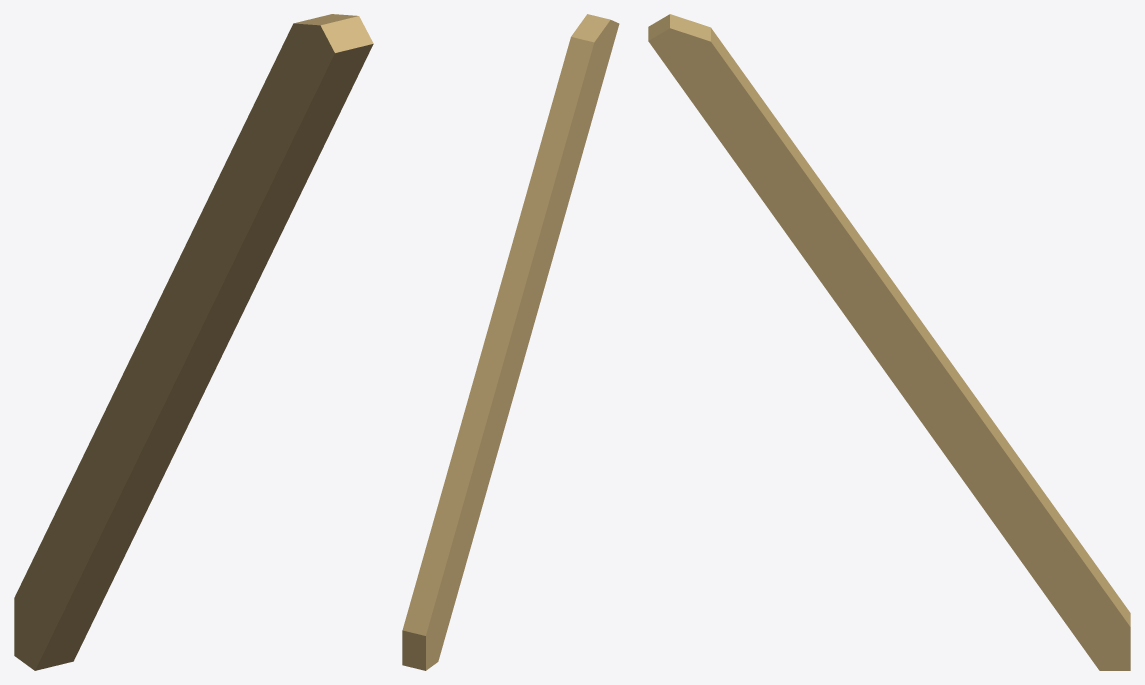
3 views of the same model, side by side, from view 1: azimuth 30°, elevation 25°; view 2: azimuth 150°, elevation 25°; view 3: azimuth 270°, elevation 25° (orthographic). The views are drawn at different scales.
Parts seen in each view (by area): view 1: L1-3-S14-32A-WEB04; view 2: L1-3-S14-32A-WEB04; view 3: L1-3-S14-32A-WEB04.
Part boxes in pixels (x1,y1,x2,y2): L1-3-S14-32A-WEB04: [14, 14, 373, 670]; L1-3-S14-32A-WEB04: [402, 14, 619, 670]; L1-3-S14-32A-WEB04: [648, 14, 1130, 670].
Bounding box in the file's own units: 0.045 × 0.95 × 0.6464.
